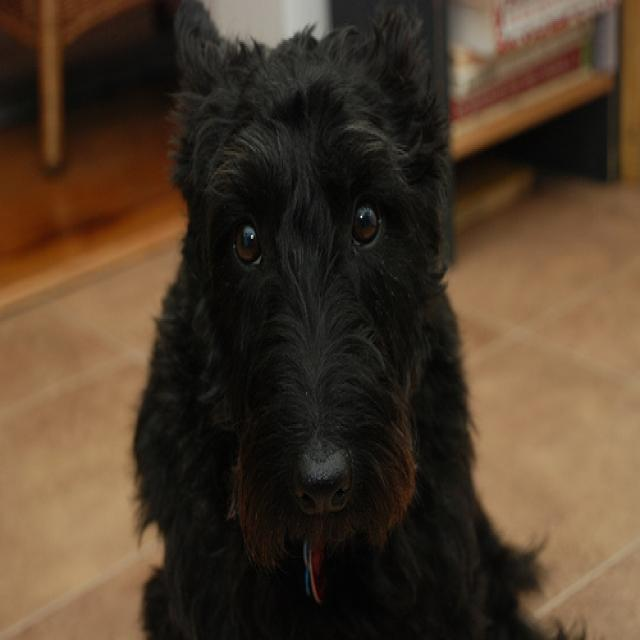dog: (170, 0, 448, 541)
